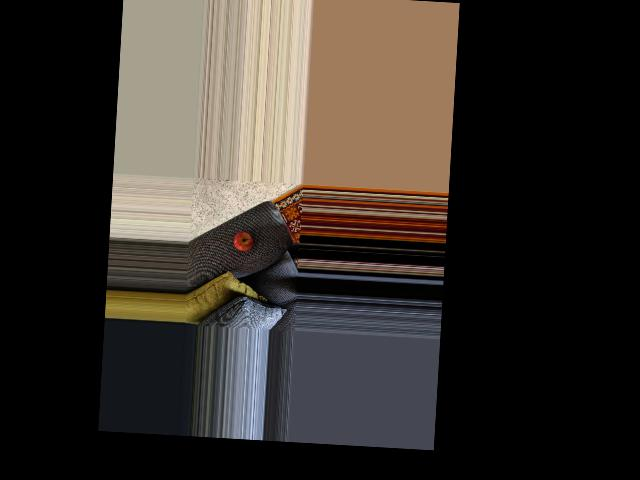apple: (233, 230, 255, 253)
